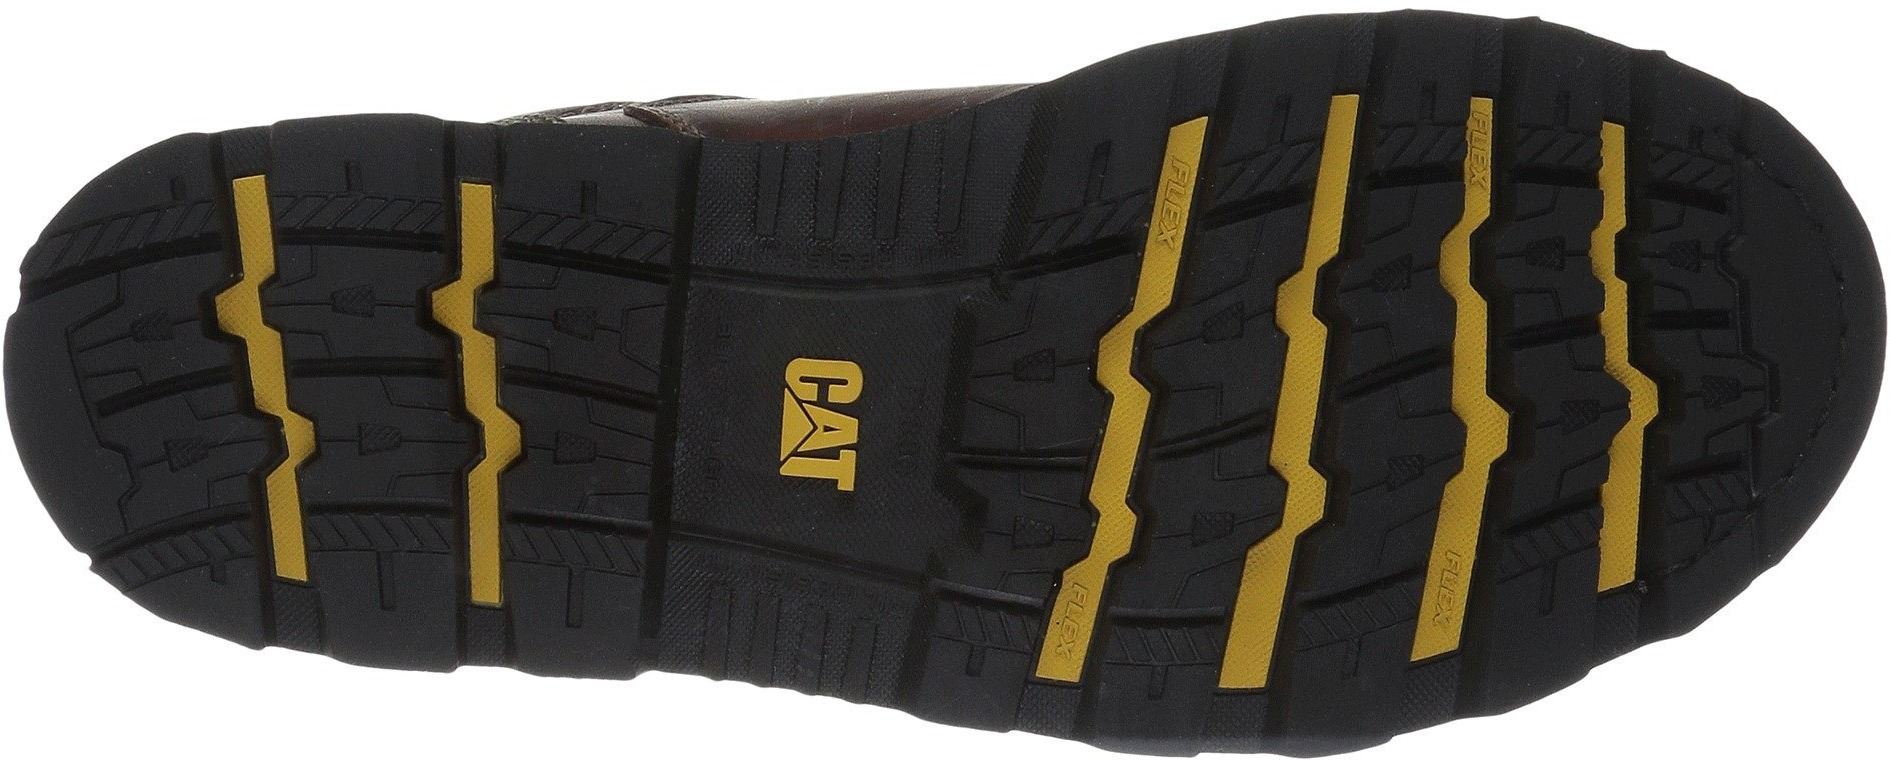exclude: (476, 0, 1132, 144)
quad: (1129, 130, 1610, 601), (269, 200, 668, 563), (740, 142, 912, 296), (690, 543, 845, 692)
ribbon: (1756, 230, 1877, 358)
text: (740, 344, 901, 504)
